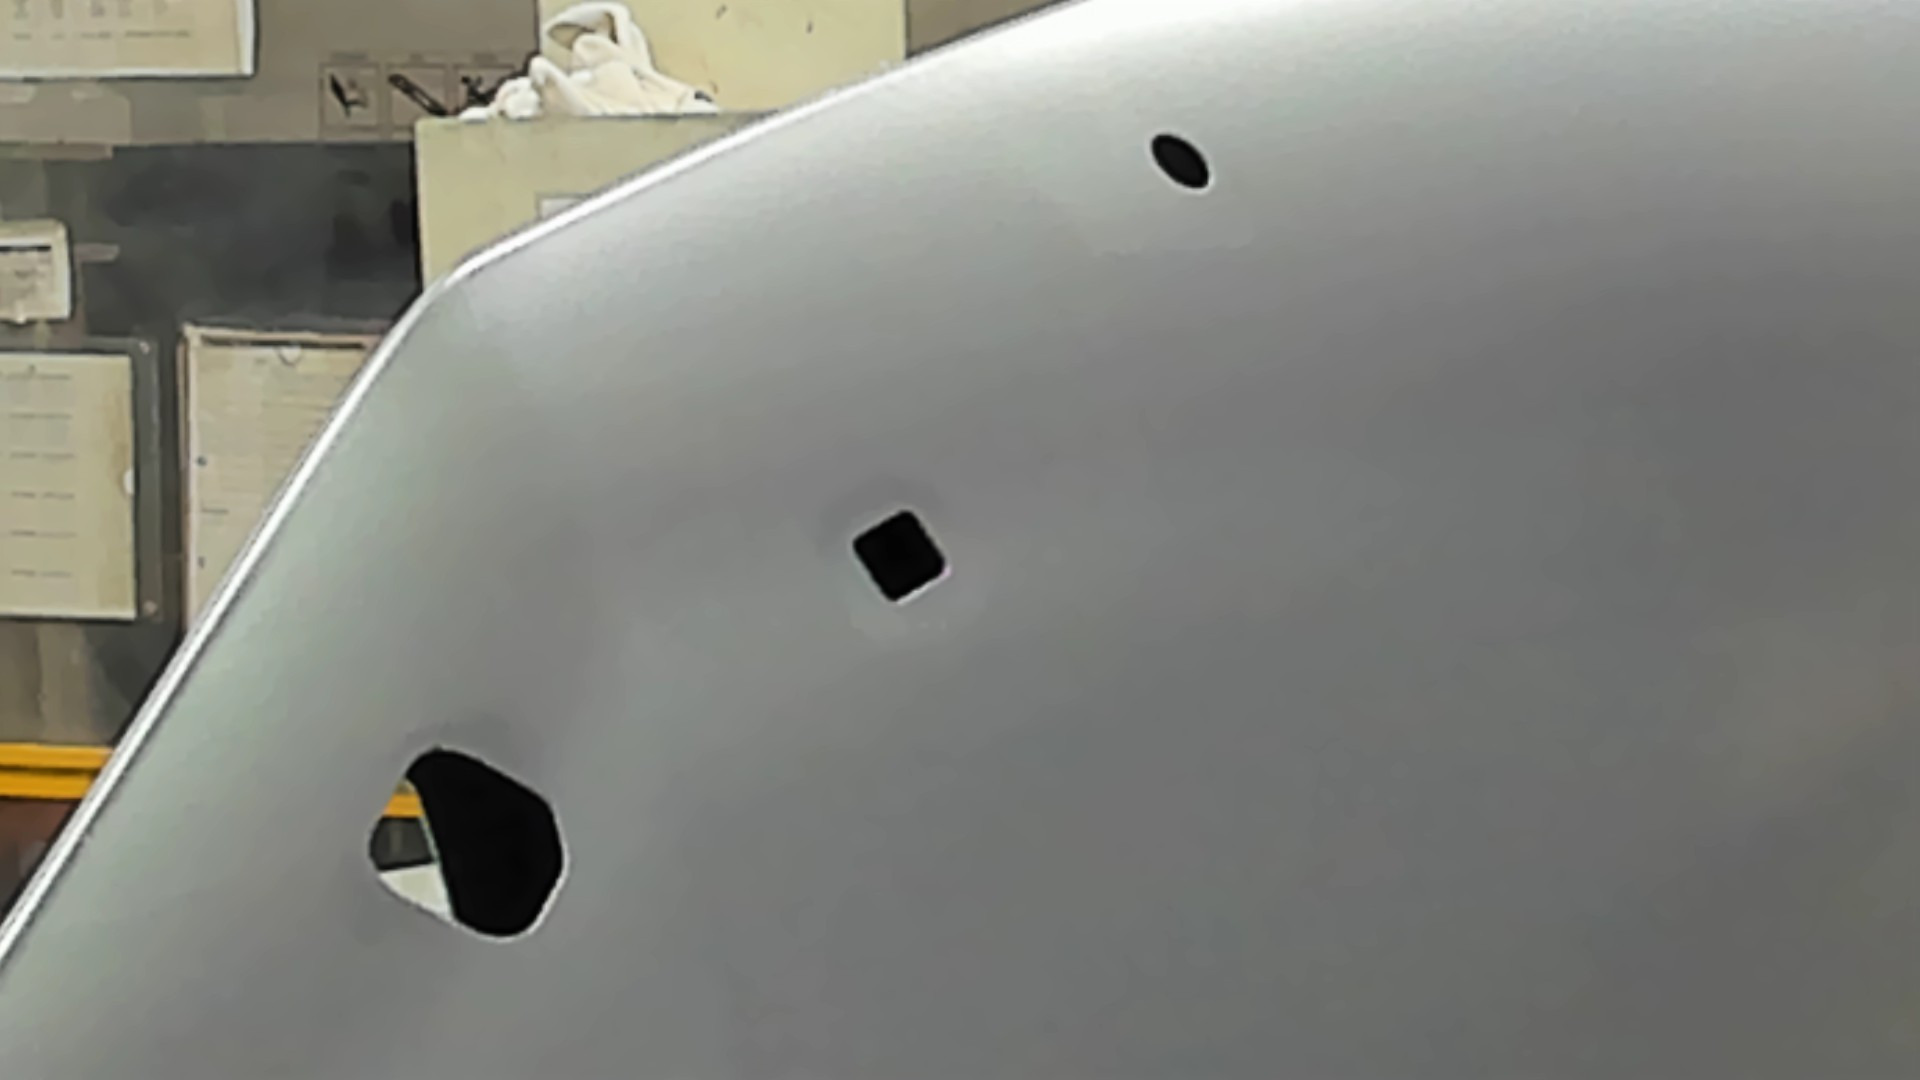chico: (1147, 129, 1212, 190)
grande: (363, 742, 574, 945)
mediano: (849, 506, 951, 608)
